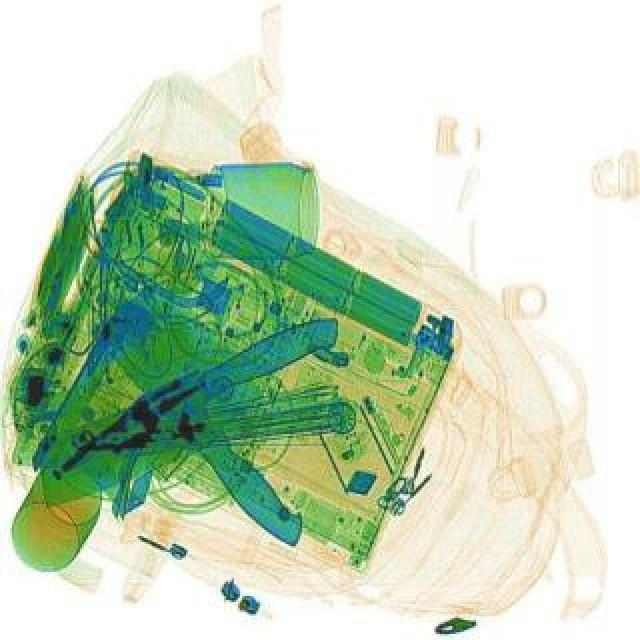knife: (84, 274, 348, 560), (12, 312, 368, 508)
